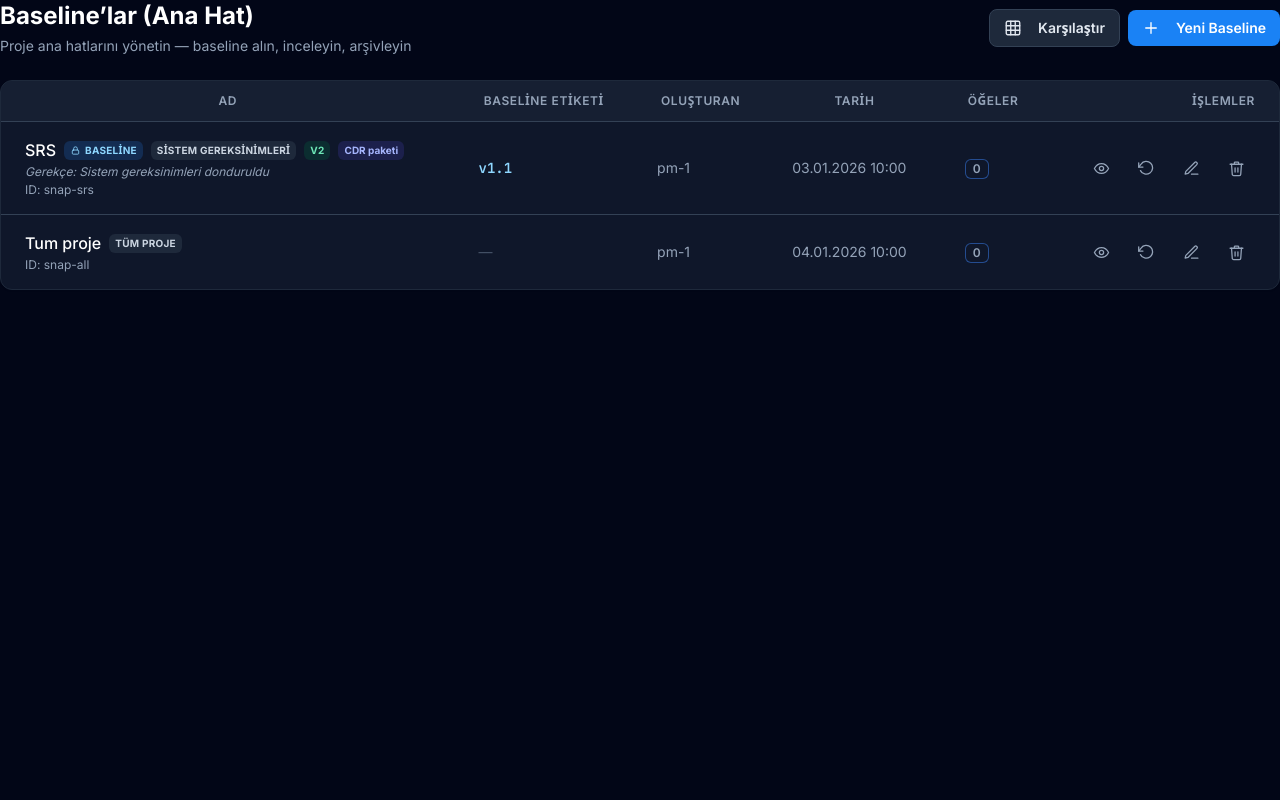
Test: Baseline kapsami — secim › varsayilan kapsam TUM PROJEDIR; modul listesi gizlidir
The width and height of the screenshot is (1280, 800).
Click the button with test id "snapshot-new": (1204, 28) [1128,10,1279,46]
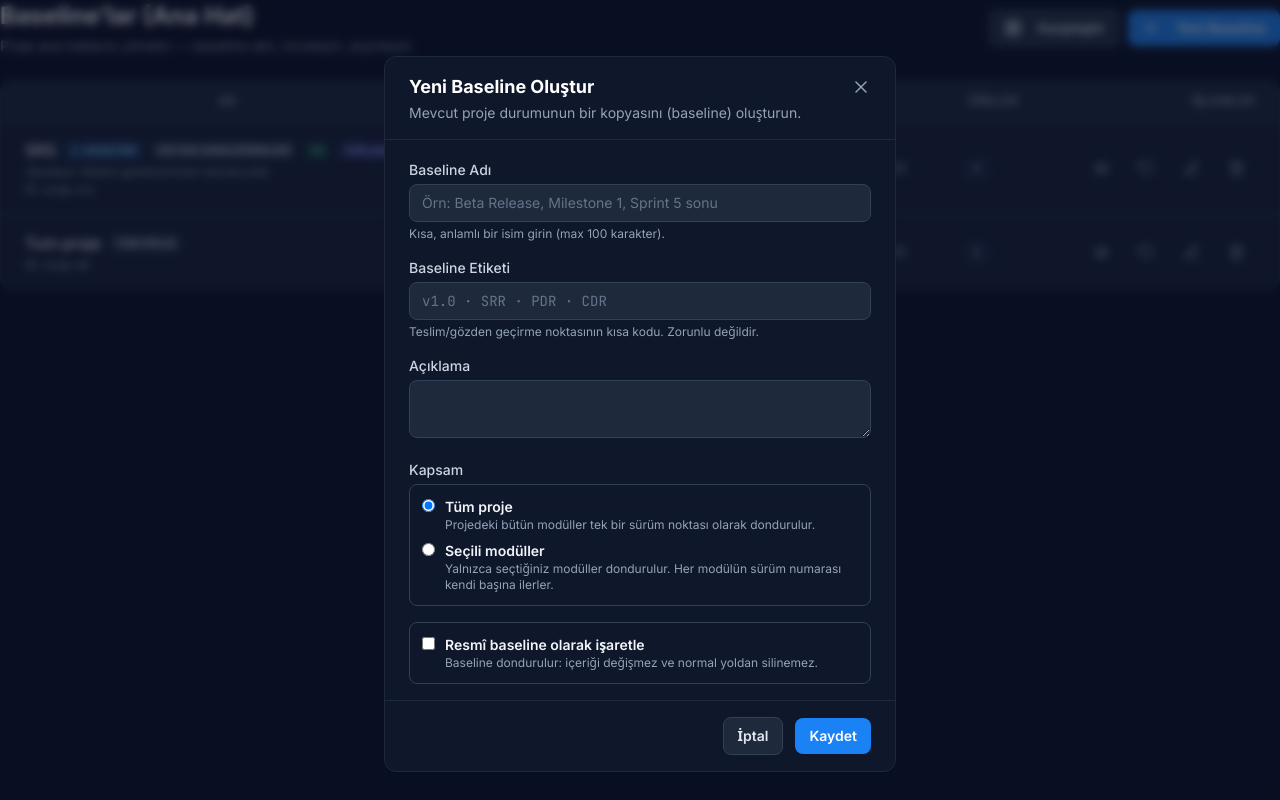
Expected: the radio button with test id "scope-project" is checked, [422,499,435,512]
